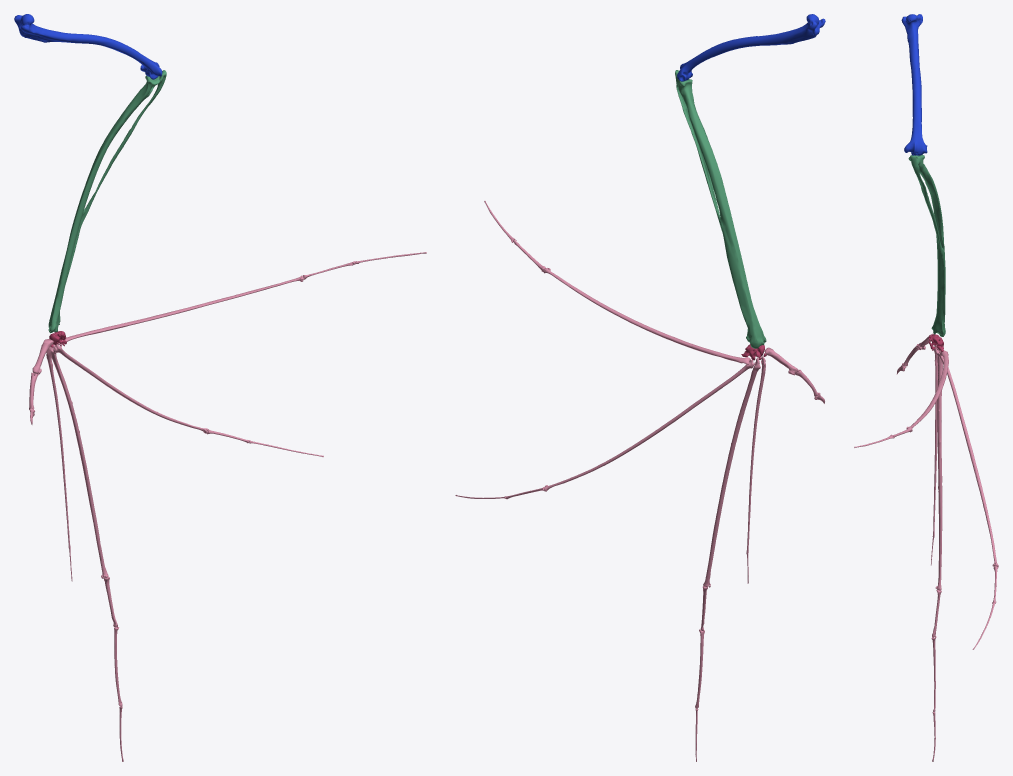
Rendered from BatWingTest.glb.
3 views of the same model, side by side, from view 1: azimuth 30°, elevation 25°; view 2: azimuth 150°, elevation 25°; view 3: azimuth 270°, elevation 25° (orthographic). The views are drawn at different scales.
Parts seen in each view (by area): view 1: Vampire-bar-UF-mamm-9818-000476294.001; view 2: Vampire-bar-UF-mamm-9818-000476294.001; view 3: Vampire-bar-UF-mamm-9818-000476294.001.
Part boxes in pixels (<box>): Vampire-bar-UF-mamm-9818-000476294.001: <box>14,14,426,761</box>; Vampire-bar-UF-mamm-9818-000476294.001: <box>455,14,825,761</box>; Vampire-bar-UF-mamm-9818-000476294.001: <box>854,14,998,761</box>.
Size of the model in its own units: 86.92 by 172 by 32.23.
